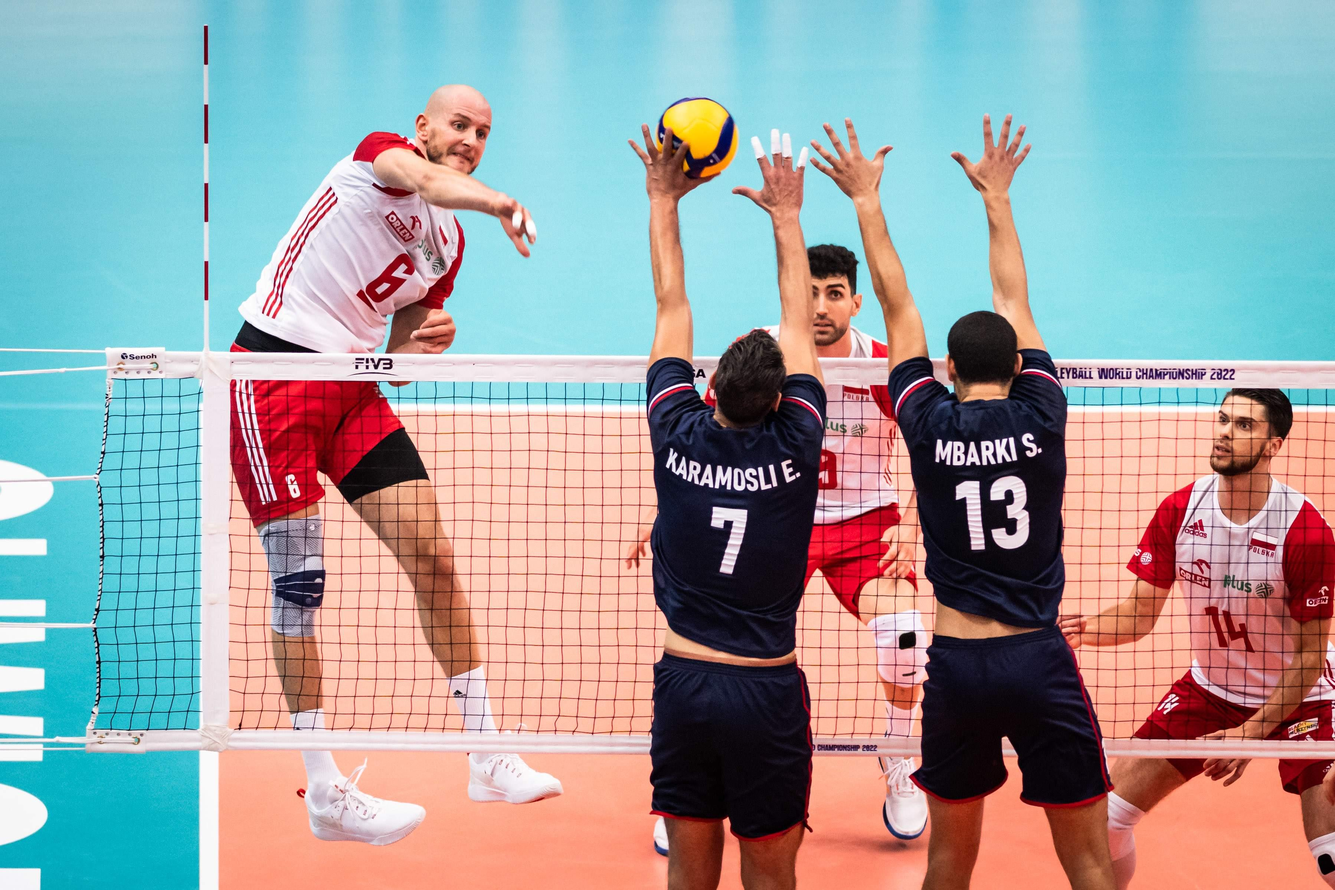ballon_volley: (654, 96, 740, 179)
